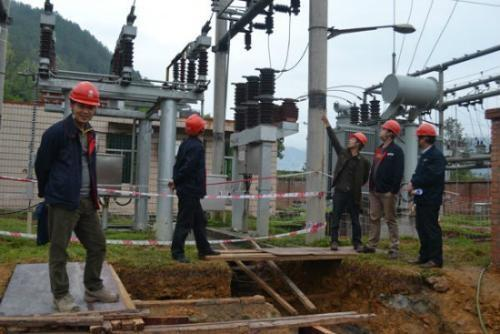helmet: (67, 81, 103, 123), (181, 113, 205, 141), (414, 122, 437, 150), (380, 118, 401, 145), (346, 129, 367, 155)
not_reflective: (34, 118, 98, 203), (171, 136, 208, 196), (409, 148, 447, 204), (330, 149, 367, 201), (367, 143, 405, 193)
